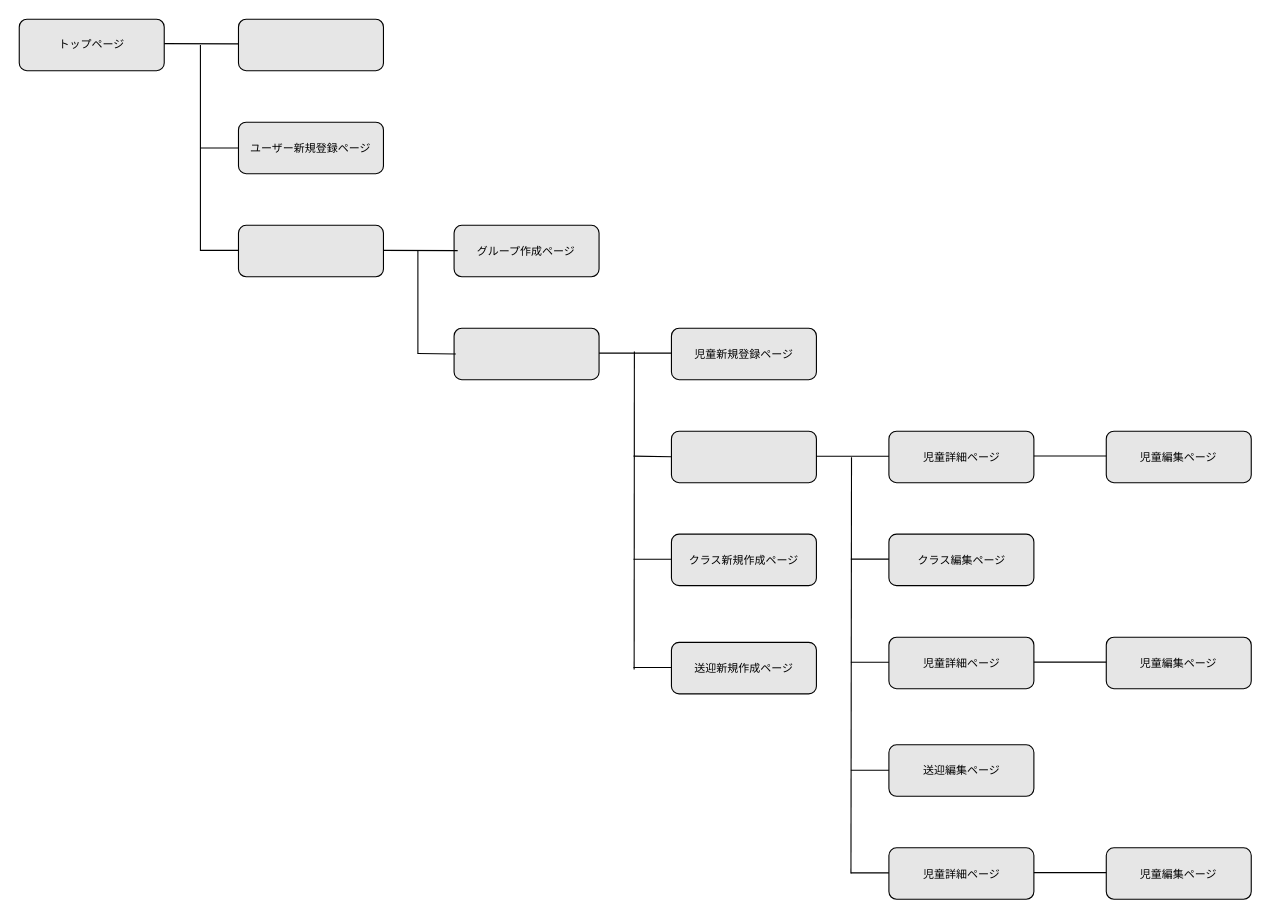
This 1271x919 diagram has some shape labels left out. The centre of each missing label's shape, as x and y in pixels:
"グループ一覧ページ" goes at (310,250).
"グループ詳細ページ" goes at (526,353).
"ユーザーログインページ" goes at (310,44).
"児童一覧ページ" goes at (743,456).
